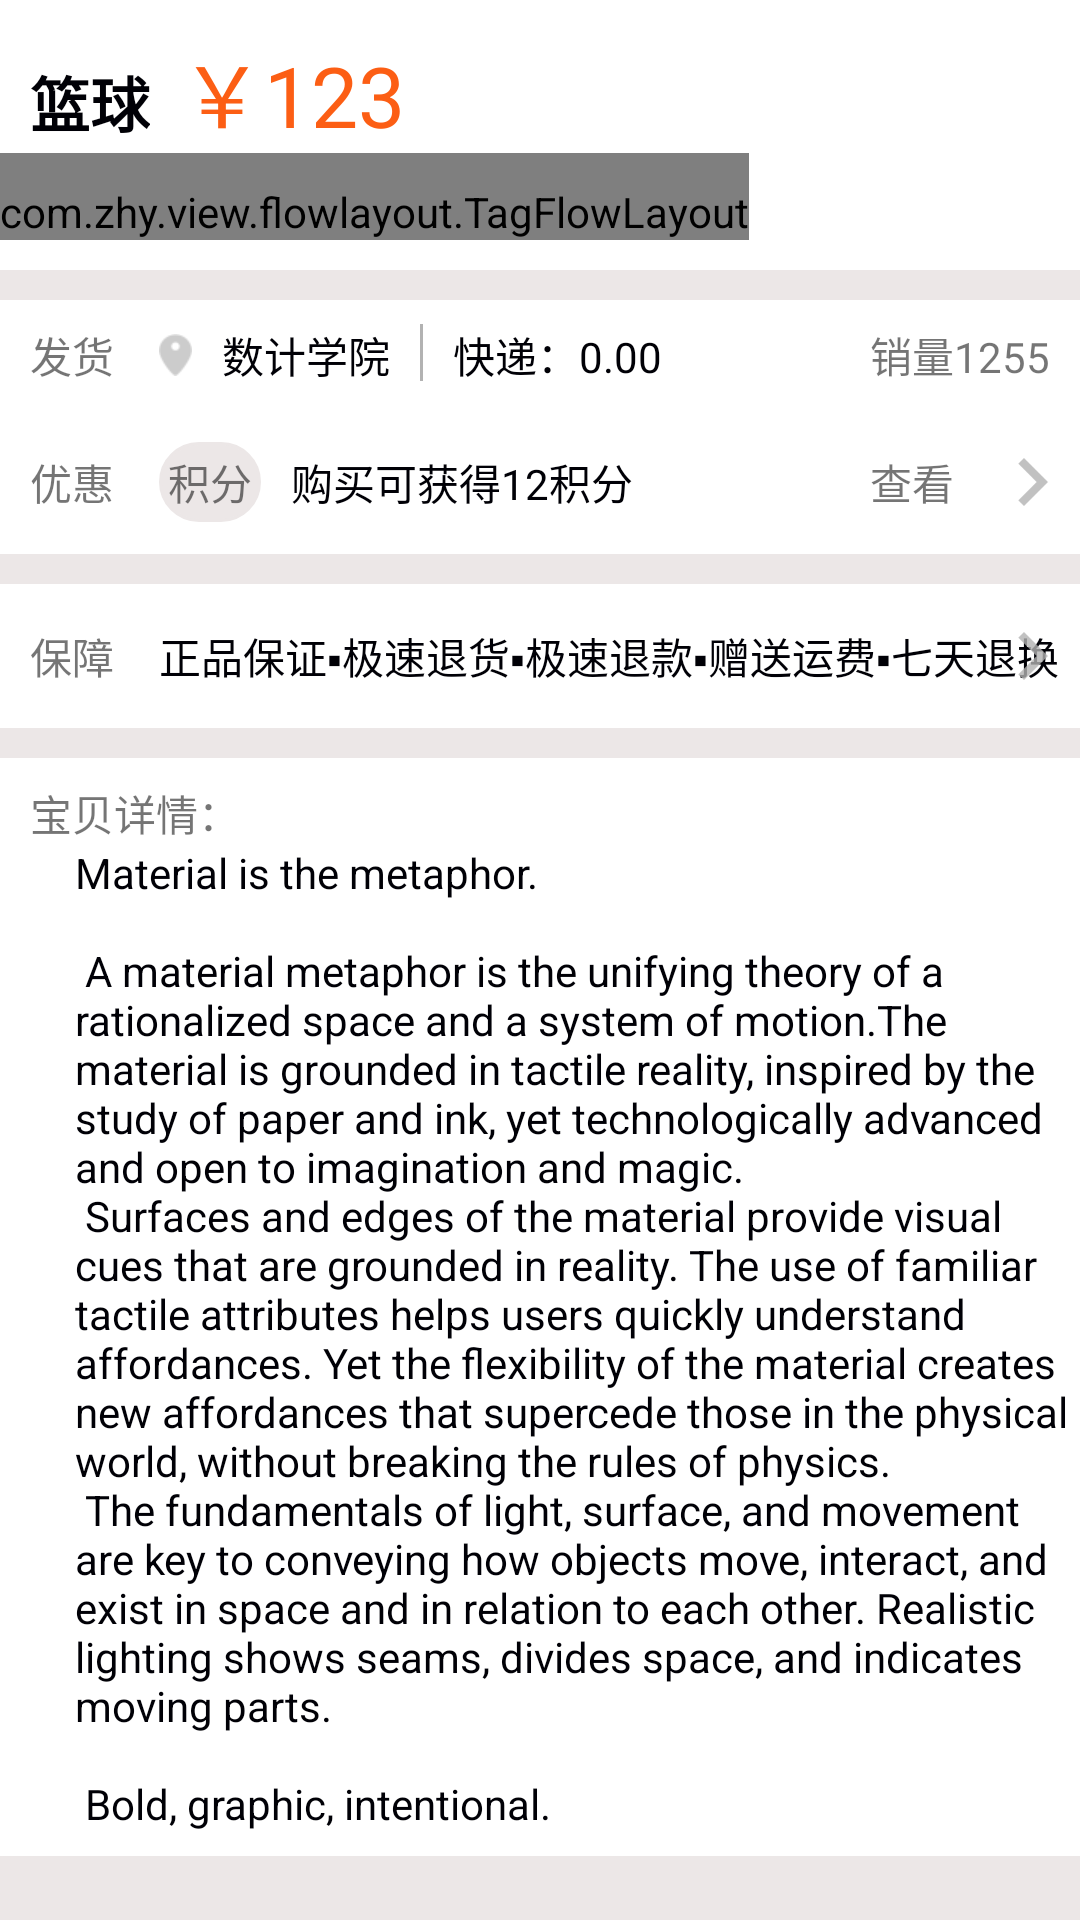

Named icons in this screenshot (1080x1920) and their bounding boxes, (x1, y1, x2, y2):
post location disable: (159, 334, 192, 376)
